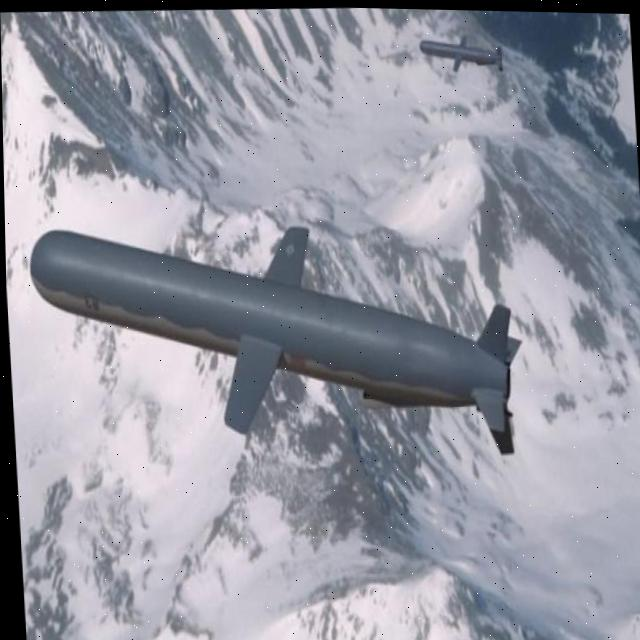missile: (30, 214, 526, 402)
